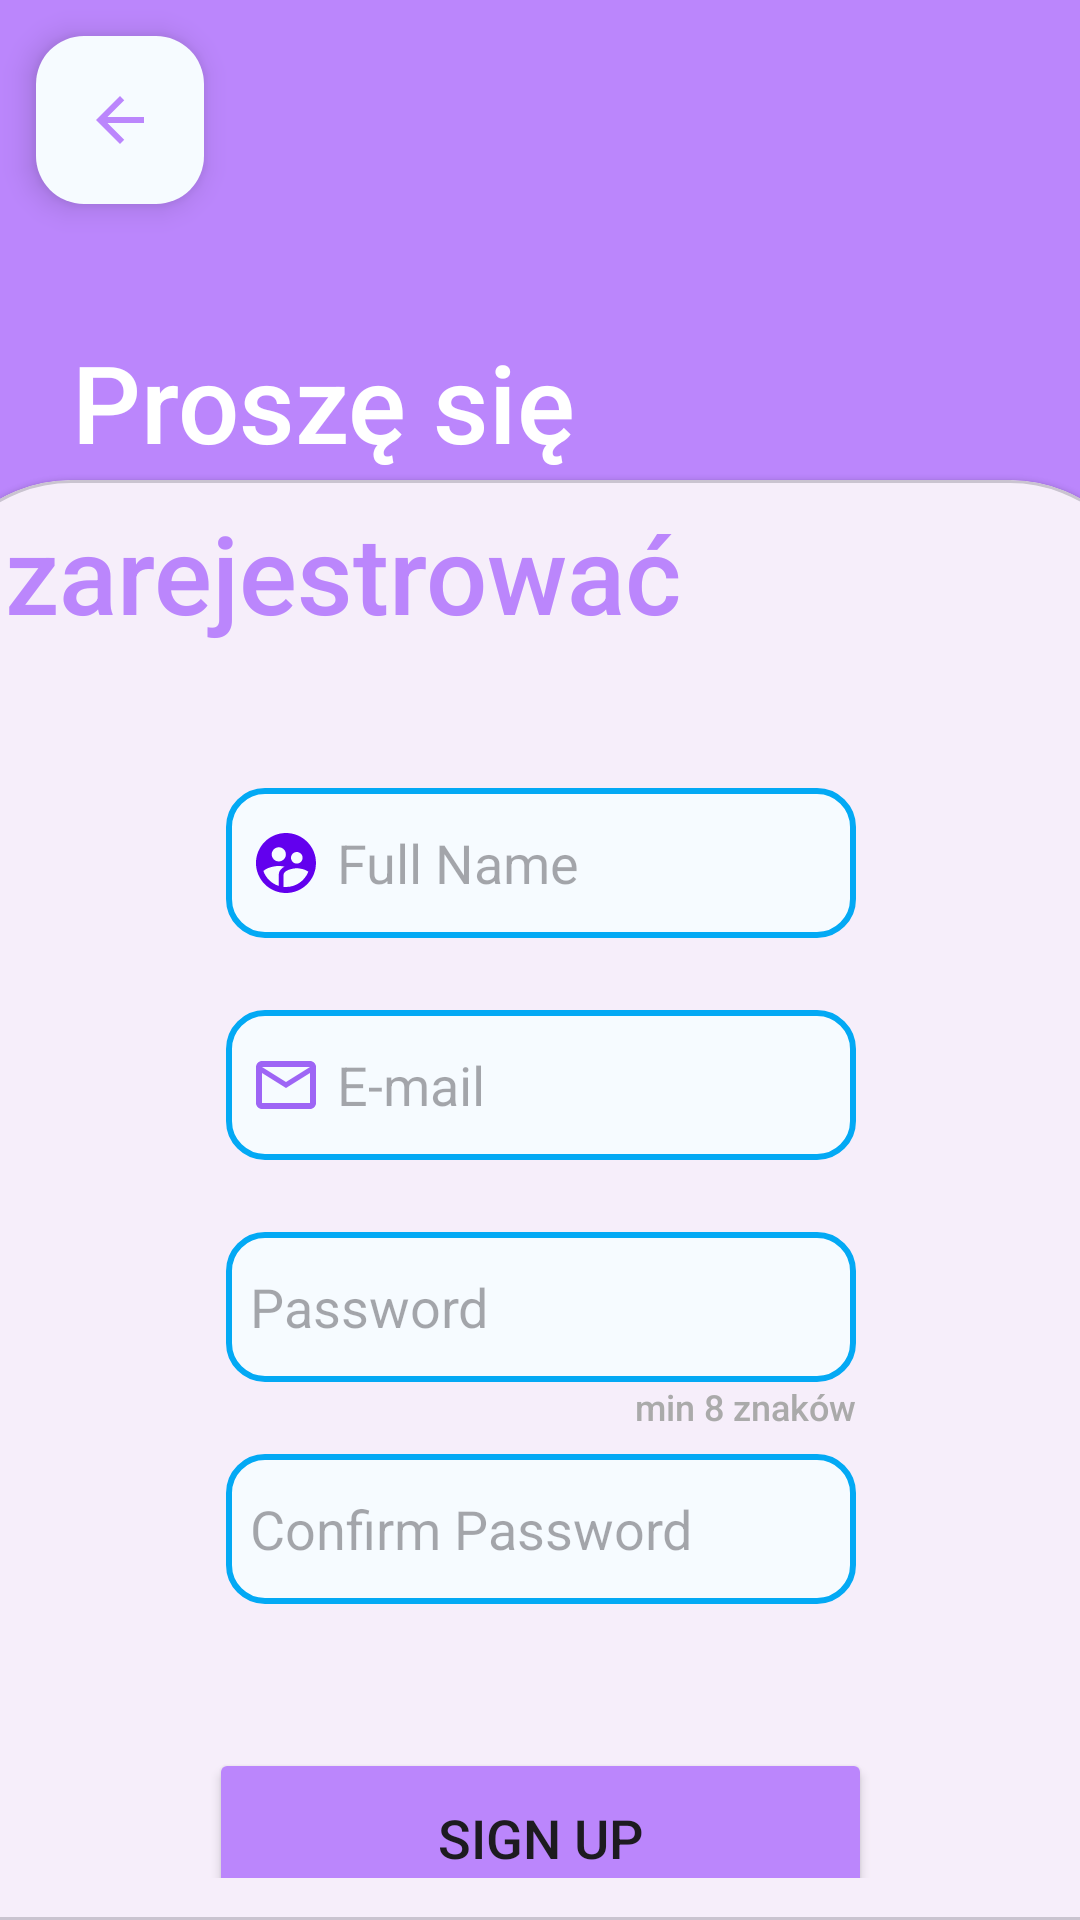

Where icons sit on this 1080×1920 app screen, as [x1,y1,x2,y2]:
arrow back: [36,36,204,204]
